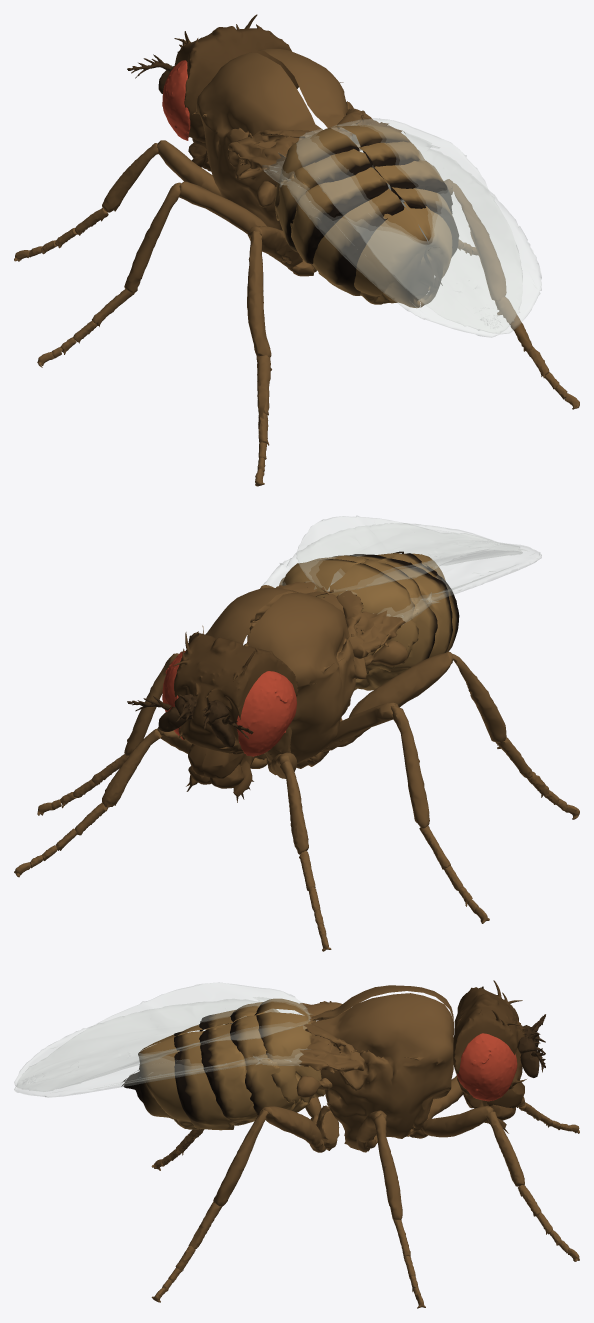
File: fly.glb
3 renders of one model, top to bottom at view 1: azimuth 30°, elevation 25°; view 2: azimuth 150°, elevation 25°; view 3: azimuth 270°, elevation 25°, orthographic. The views are drawn at different scales.
Parts seen in each view (by area): view 1: body, wing_L, wing_R, head, leg_LH_tibia, leg_RH_tibia, leg_LM_tibia, leg_LF_tibia, hinge_L, leg_LM_femur, eye_L, leg_LH_femur (+1 smaller); view 2: body, wing_L, head, wing_R, eye_L, leg_LM_tibia, leg_LH_tibia, leg_LH_femur, hinge_L, leg_RF_tibia, leg_LF_tibia, leg_RM_tibia (+7 smaller); view 3: body, wing_R, wing_L, head, eye_R, leg_RH_tibia, hinge_R, leg_RM_tibia, leg_RF_tibia, leg_RF_femur, leg_RH_femur, antenna_R (+7 smaller).
Part boxes in pixels (x1,y1,x2,y2): body: (192,48,458,307); wing_L: (262,118,522,337); wing_R: (296,128,541,333); head: (174,14,298,143); leg_LH_tibia: (247,231,271,486); leg_RH_tibia: (451,183,579,409); leg_LM_tibia: (37,182,180,367); leg_LF_tibia: (14,143,158,261); hinge_L: (228,129,315,170); leg_LM_femur: (179,181,266,234); eye_L: (162,60,190,140); leg_LH_femur: (247,226,313,276); body: (202,551,459,768); wing_L: (296,516,541,624); head: (173,631,298,754); wing_R: (263,523,522,592); eye_L: (236,671,296,756); leg_LM_tibia: (391,706,489,923); leg_LH_tibia: (452,653,579,819); leg_LH_femur: (338,651,452,746); hinge_L: (320,587,405,658); leg_RF_tibia: (14,729,162,877); leg_LF_tibia: (280,761,331,951); leg_RM_tibia: (37,653,178,815); body: (121,985,453,1151); wing_R: (14,982,310,1097); wing_L: (14,997,310,1091); head: (453,980,526,1096); eye_R: (457,1033,517,1101); leg_RH_tibia: (151,1109,268,1302); hinge_R: (298,1015,364,1073); leg_RM_tibia: (374,1113,425,1308); leg_RF_tibia: (486,1111,579,1261); leg_RF_femur: (410,1106,493,1138); leg_RH_femur: (261,1106,325,1152); antenna_R: (518,1033,545,1077).
Bounding box in the file's own units: 2.4 × 1.45 × 3.05.
